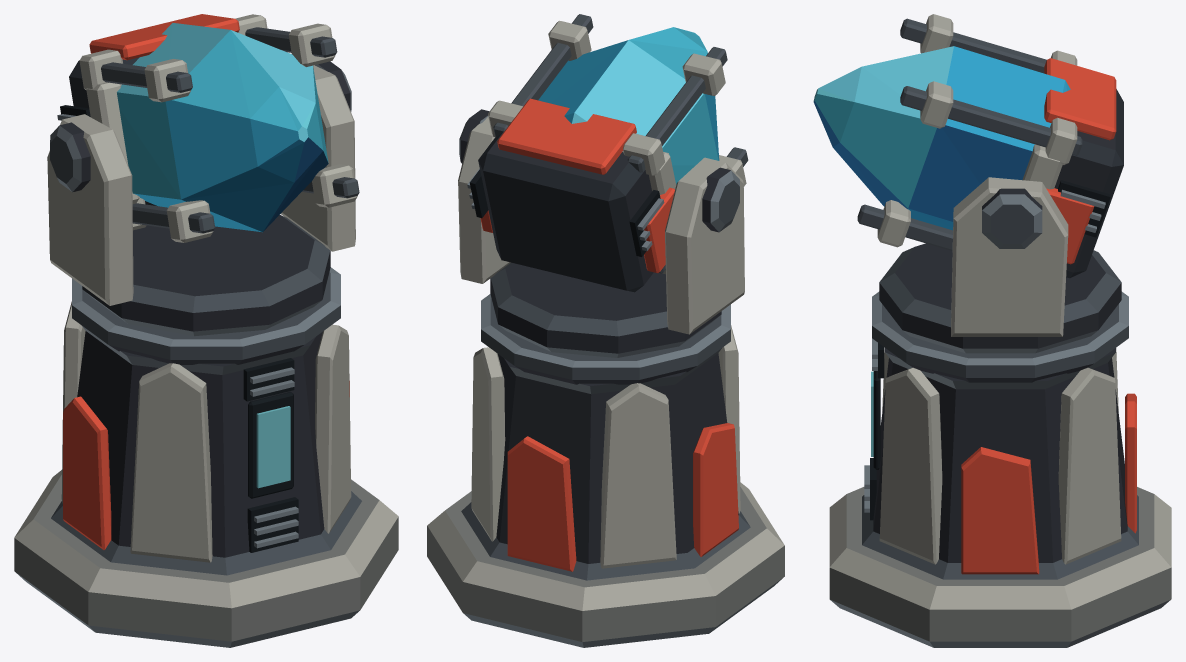
File: lv3_givre.glb
The picture shows the model from 3 angles, left to right: view 1: azimuth 30°, elevation 25°; view 2: azimuth 150°, elevation 25°; view 3: azimuth 270°, elevation 25°; orthographic projection. The views are drawn at different scales.
Parts seen in each view (by area): view 1: Base, Barrel_Recoil, Turret_Yaw, Base_TeamColor, Team_Panels; view 2: Base, Barrel_Recoil, Turret_Yaw, Base_TeamColor, Team_Panels; view 3: Base, Barrel_Recoil, Turret_Yaw, Base_TeamColor, Team_Panels.
Boxes of the visible parts, x1=… form: Base: x1=14, y1=267, x2=398, y2=647; Barrel_Recoil: x1=57, y1=14, x2=359, y2=242; Turret_Yaw: x1=47, y1=61, x2=355, y2=336; Base_TeamColor: x1=63, y1=381, x2=349, y2=549; Team_Panels: x1=89, y1=14, x2=239, y2=60; Base: x1=427, y1=294, x2=784, y2=647; Barrel_Recoil: x1=467, y1=14, x2=748, y2=292; Turret_Yaw: x1=458, y1=109, x2=744, y2=357; Base_TeamColor: x1=507, y1=423, x2=738, y2=571; Team_Panels: x1=480, y1=98, x2=674, y2=273; Base: x1=829, y1=291, x2=1171, y2=647; Barrel_Recoil: x1=813, y1=14, x2=1123, y2=278; Turret_Yaw: x1=879, y1=177, x2=1121, y2=353; Base_TeamColor: x1=961, y1=393, x2=1136, y2=574; Team_Panels: x1=1044, y1=58, x2=1116, y2=264.
Size of the model in its own units: 1.74 by 3 by 1.82.
